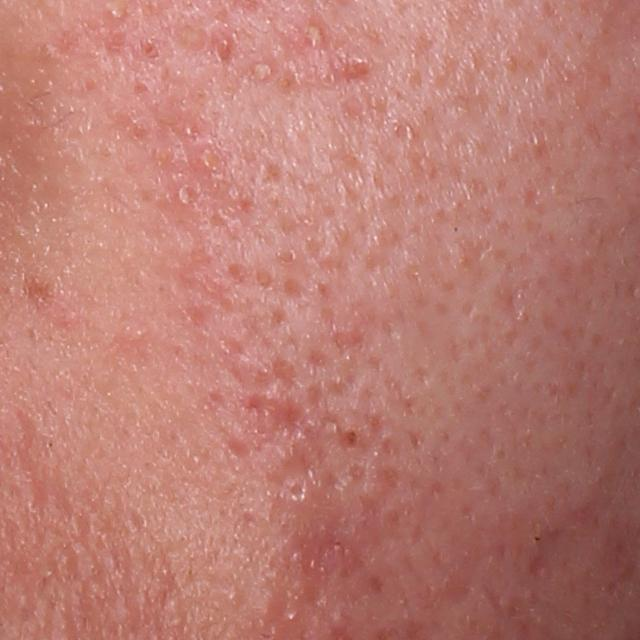atrophic_scar: (243, 392, 316, 445)
comedo: (338, 420, 364, 447)
papule: (338, 52, 373, 80), (214, 32, 236, 56)
pustule: (244, 53, 284, 85), (168, 177, 195, 212)
